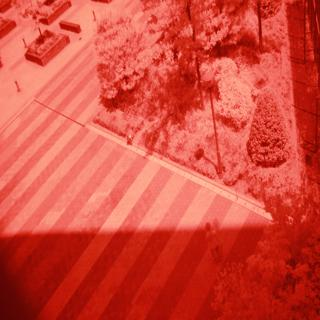person: (202, 218, 227, 262)
